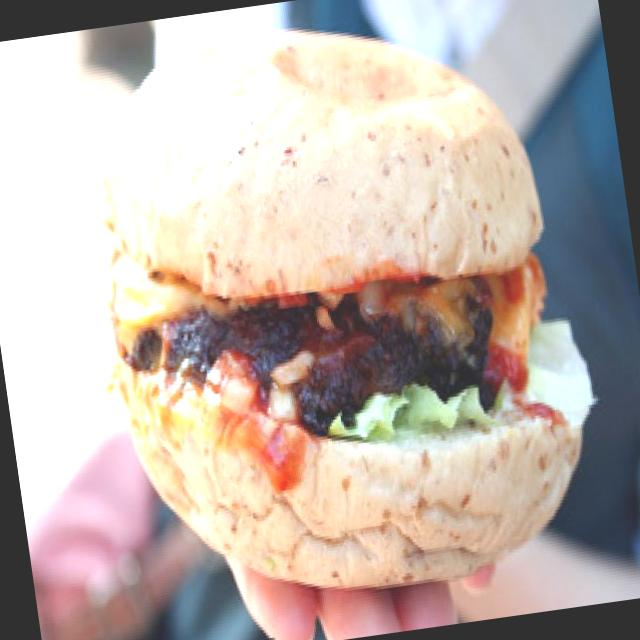Hamburger: (61, 0, 604, 635)
